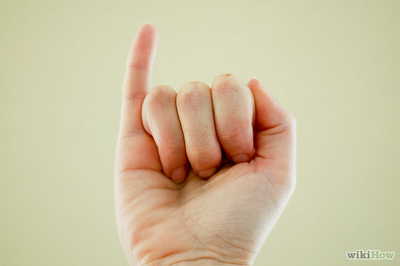closedhandfront: (97, 78, 318, 243)
mindinho: (113, 13, 167, 100)
